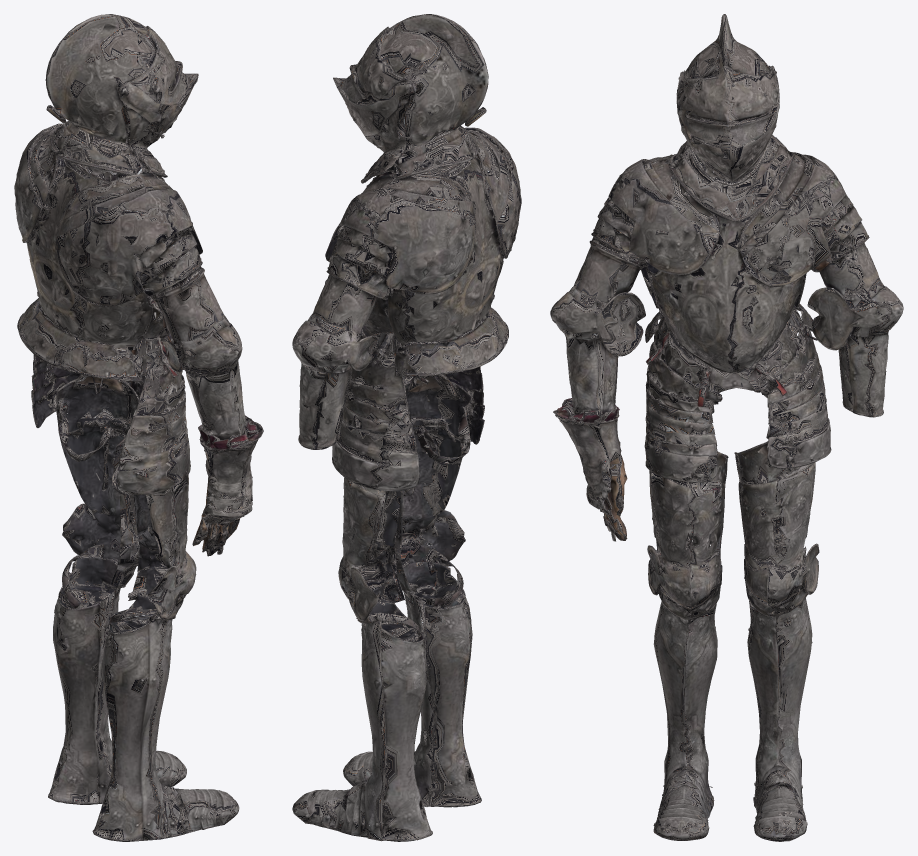
File: hero_era_history_the_middle_ages_eb26a0.glb
The picture shows the model from 3 angles, left to right: view 1: azimuth 30°, elevation 25°; view 2: azimuth 150°, elevation 25°; view 3: azimuth 270°, elevation 25°; orthographic projection. The views are drawn at different scales.
Parts seen in each view (by area): view 1: Object_2; view 2: Object_2; view 3: Object_2.
Boxes of the visible parts, left/top/right/bottom form: Object_2: left=14, top=14, right=263, bottom=841; Object_2: left=292, top=14, right=521, bottom=841; Object_2: left=550, top=14, right=903, bottom=841.
Size of the model in its own units: 0.373 by 1.67 by 0.6926.
1 material, 1 textured.
